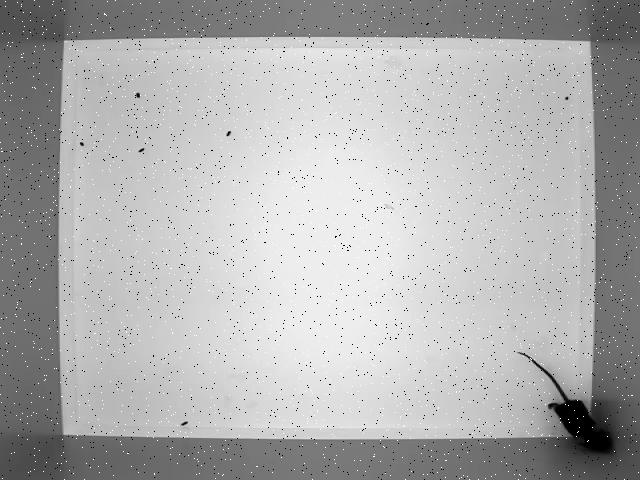Tikus: (512, 346, 616, 454)
